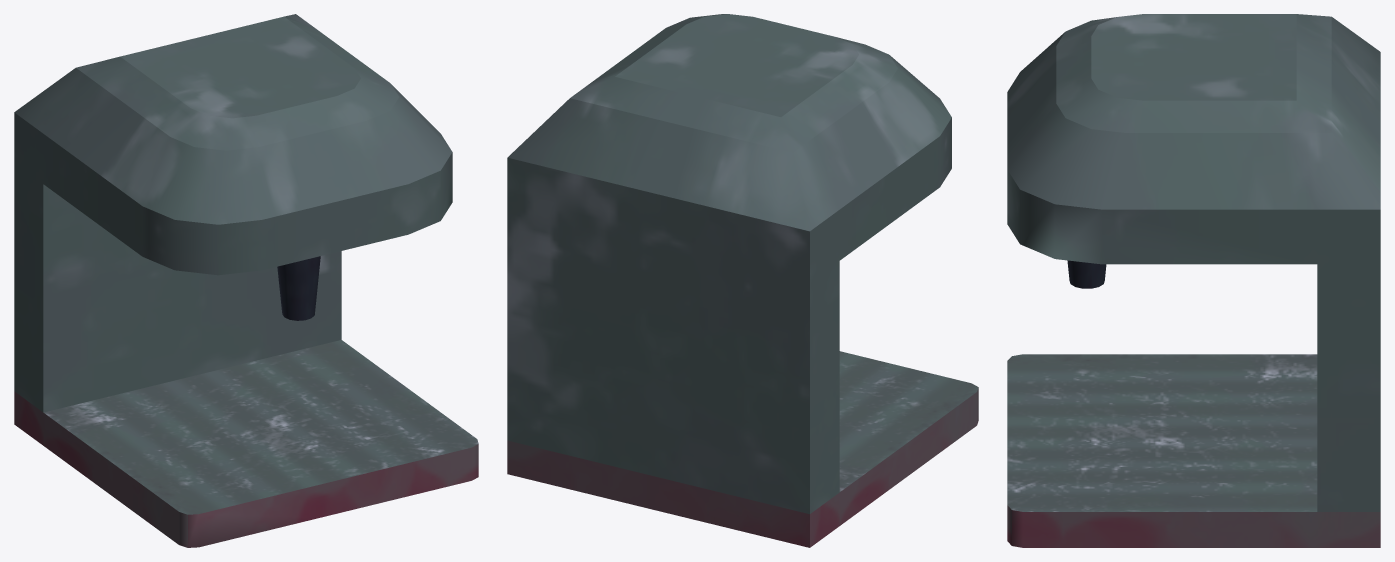
The model's file is CoffeeMachine.fbx.
The picture shows the model from 3 angles, left to right: view 1: azimuth 30°, elevation 25°; view 2: azimuth 150°, elevation 25°; view 3: azimuth 270°, elevation 25°; orthographic projection. The views are drawn at different scales.
Parts seen in each view (by area): view 1: Coffee; view 2: Coffee; view 3: Coffee.
Boxes of the visible parts, box(x1,y1,x2,y2) form: Coffee: box(14, 14, 478, 547); Coffee: box(507, 14, 978, 547); Coffee: box(1007, 14, 1380, 547).
Size of the model in its own units: 33.73 by 41.05 by 33.73.
